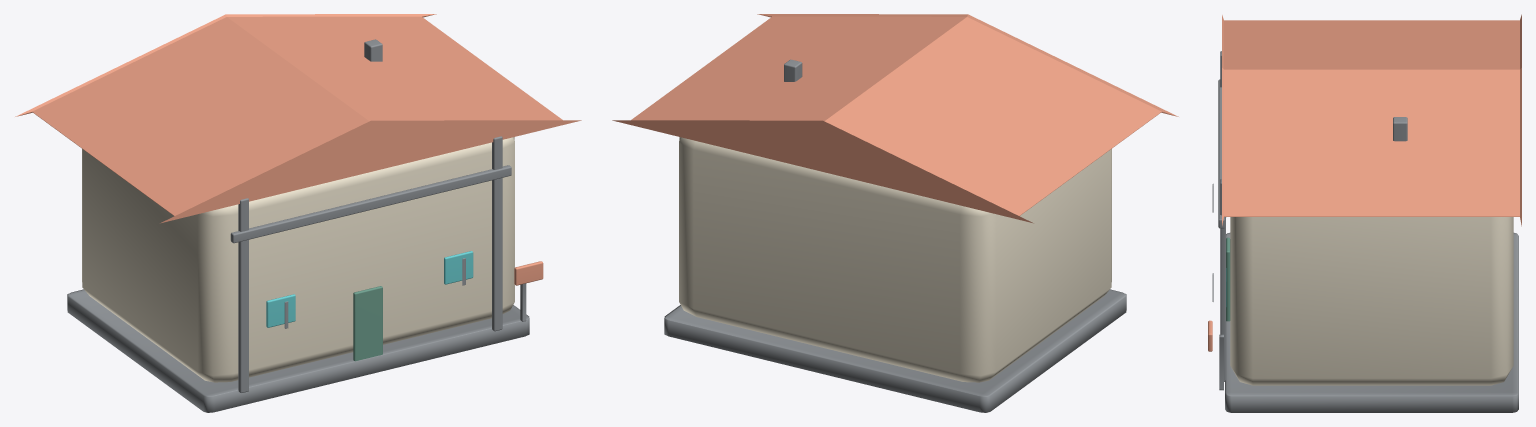
Rendered from tavern.glb.
3 views of the same model, side by side, from view 1: azimuth 30°, elevation 25°; view 2: azimuth 150°, elevation 25°; view 3: azimuth 270°, elevation 25° (orthographic). The views are drawn at different scales.
Parts seen in each view (by area): view 1: tavern_root; view 2: tavern_root; view 3: tavern_root.
Boxes of the visible parts, x1,y1,x2,y2 form: tavern_root: [15, 14, 581, 412]; tavern_root: [612, 14, 1178, 412]; tavern_root: [1208, 14, 1521, 412].
Bounding box in the file's own units: 8.68 × 5 × 5.4.
